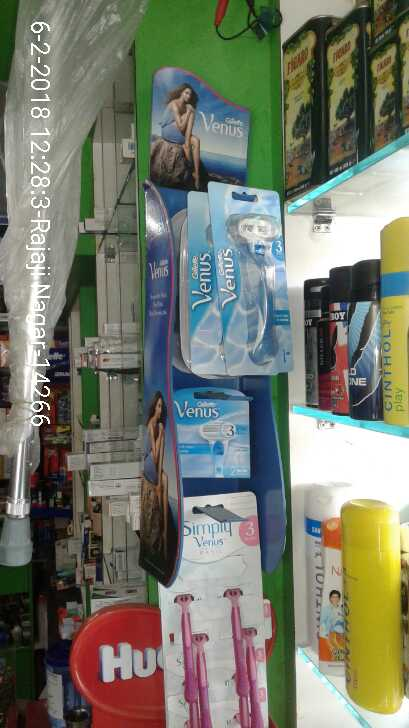beauty: (160, 507, 273, 724), (181, 189, 291, 371), (172, 393, 255, 485)
